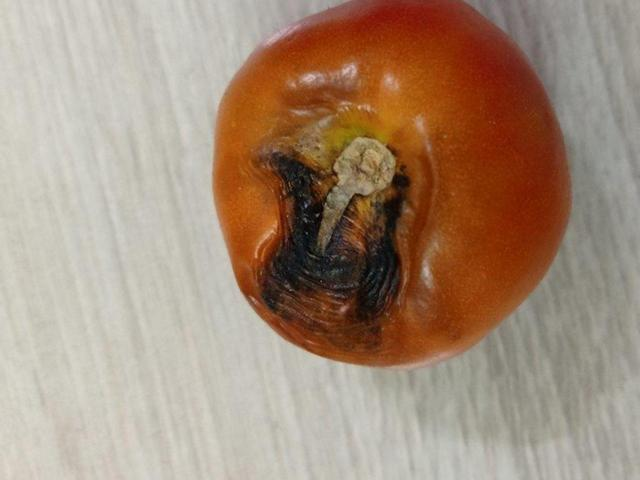defect: (202, 0, 581, 374)
